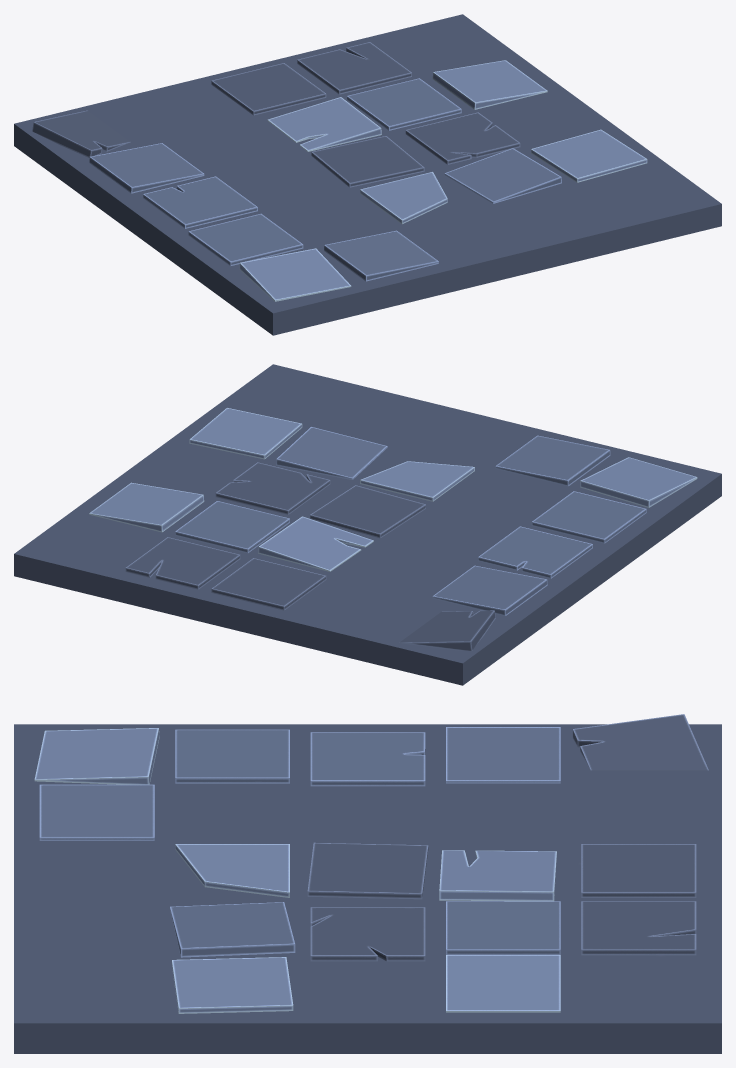
File: tile_3.glb
3 renders of one model, top to bottom at view 1: azimuth 30°, elevation 25°; view 2: azimuth 150°, elevation 25°; view 3: azimuth 270°, elevation 25°, orthographic. The views are drawn at different scales.
Visible parts, largest first — view 1: Floor 2; view 2: Floor 2; view 3: Floor 2.
Part boxes in pixels (x1,y1,x2,y2): Floor 2: [14, 14, 721, 335]; Floor 2: [14, 364, 721, 685]; Floor 2: [14, 714, 721, 1053].
Size of the model in its own units: 2 by 0.1388 by 2.
1 material, 1 textured.
